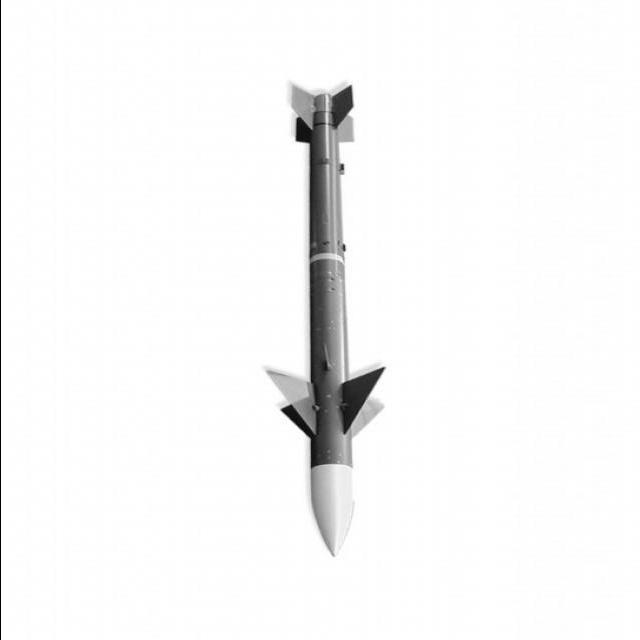missile: (253, 74, 394, 572)
